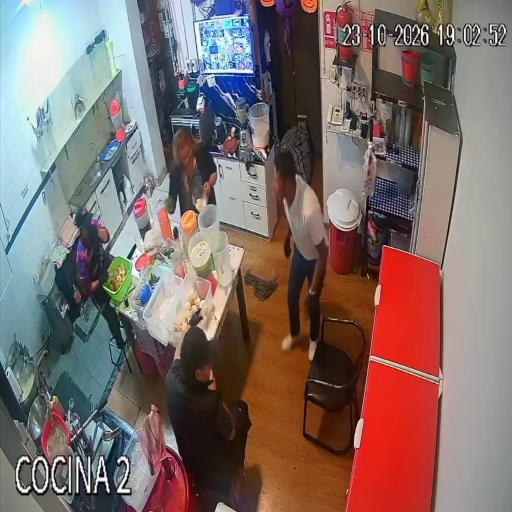Envase Llajua: (47, 395, 64, 417)
Jarra1: (133, 197, 150, 241)
Jarra2: (179, 210, 197, 244)
Jarra3: (198, 204, 219, 245)
Jarra4: (212, 231, 232, 286)
Microondas: (171, 105, 214, 145)
Persona1: (165, 326, 251, 495)
Persona2: (74, 207, 125, 349), (110, 313, 122, 341)
Persona3: (167, 129, 217, 212)
Persona4: (274, 151, 328, 361)
Taper2: (130, 272, 154, 312)
Taper3: (143, 272, 183, 345)
Taper4: (159, 274, 213, 346)
